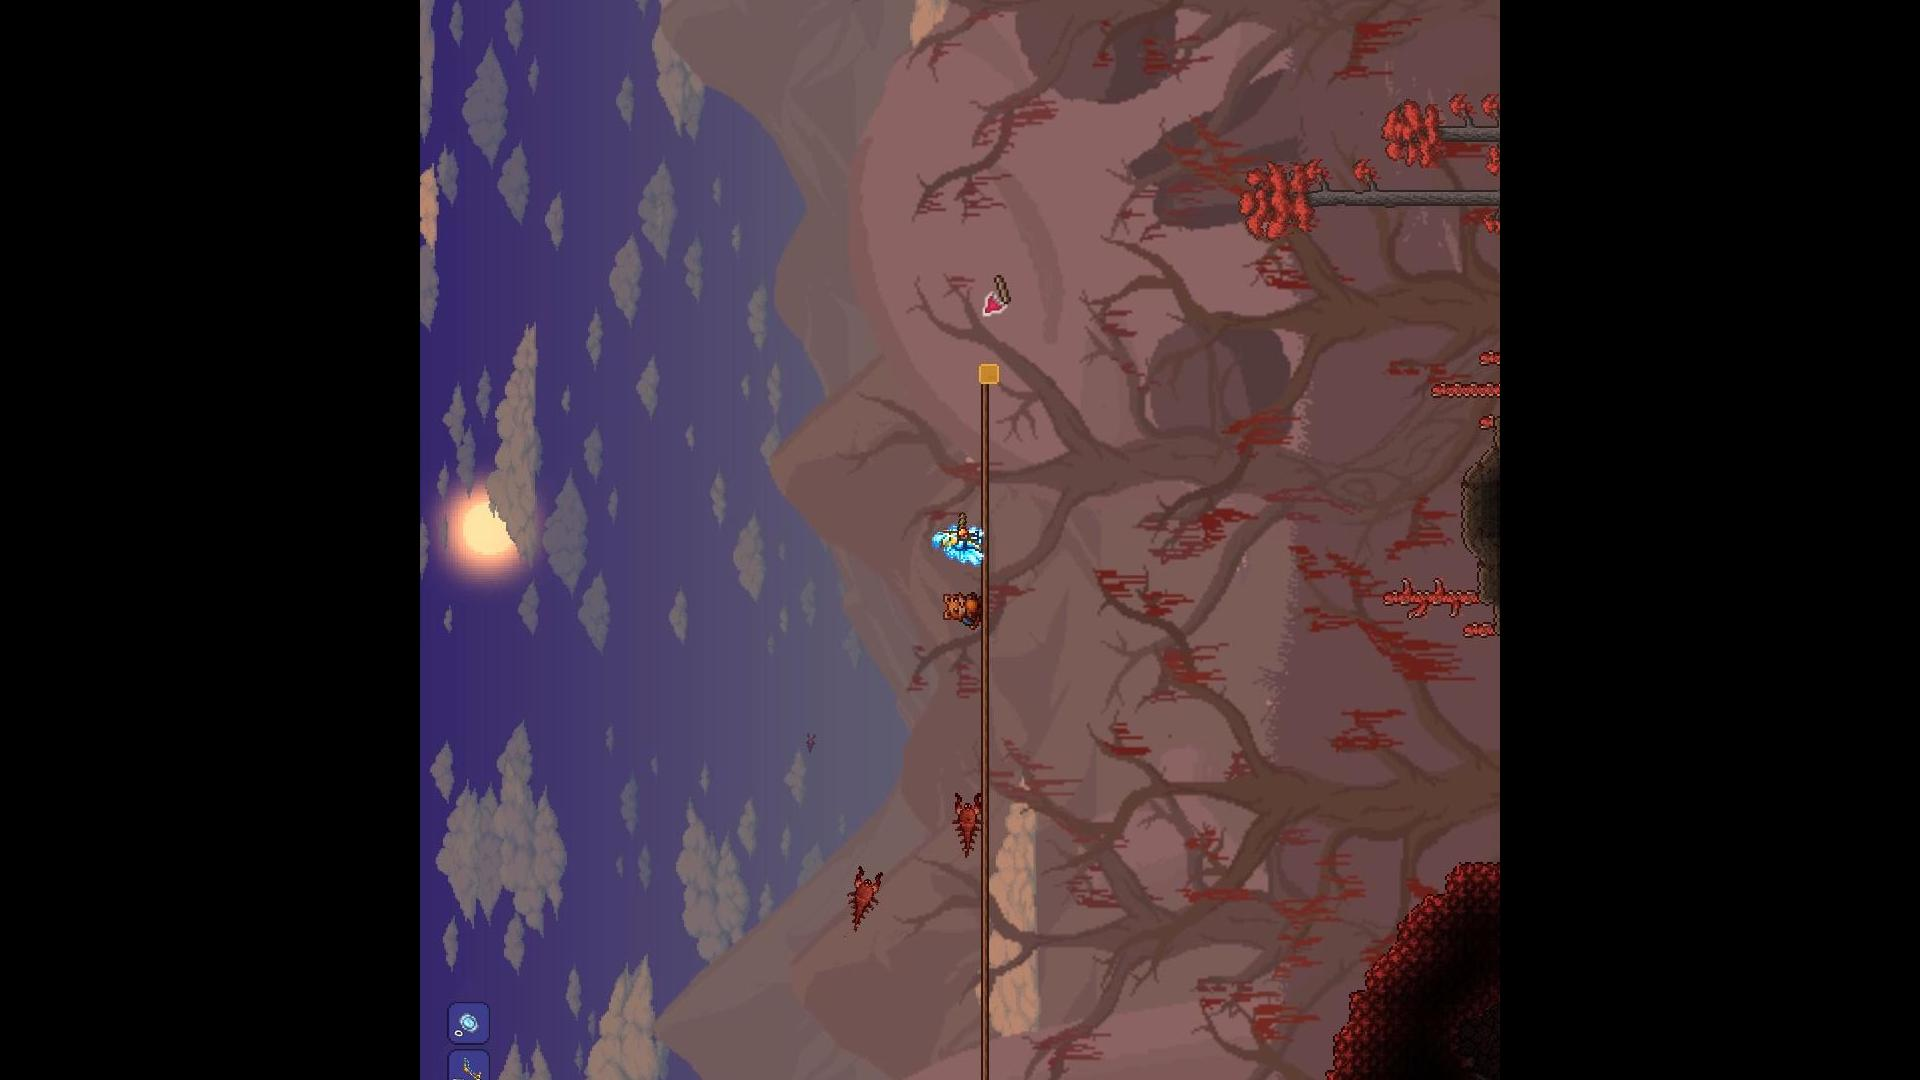crimera: (841, 862, 891, 938), (945, 786, 989, 860)
